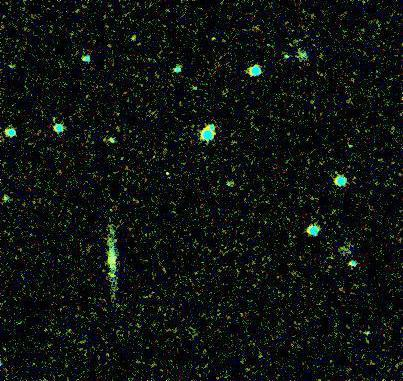star: (97, 260, 127, 290)
